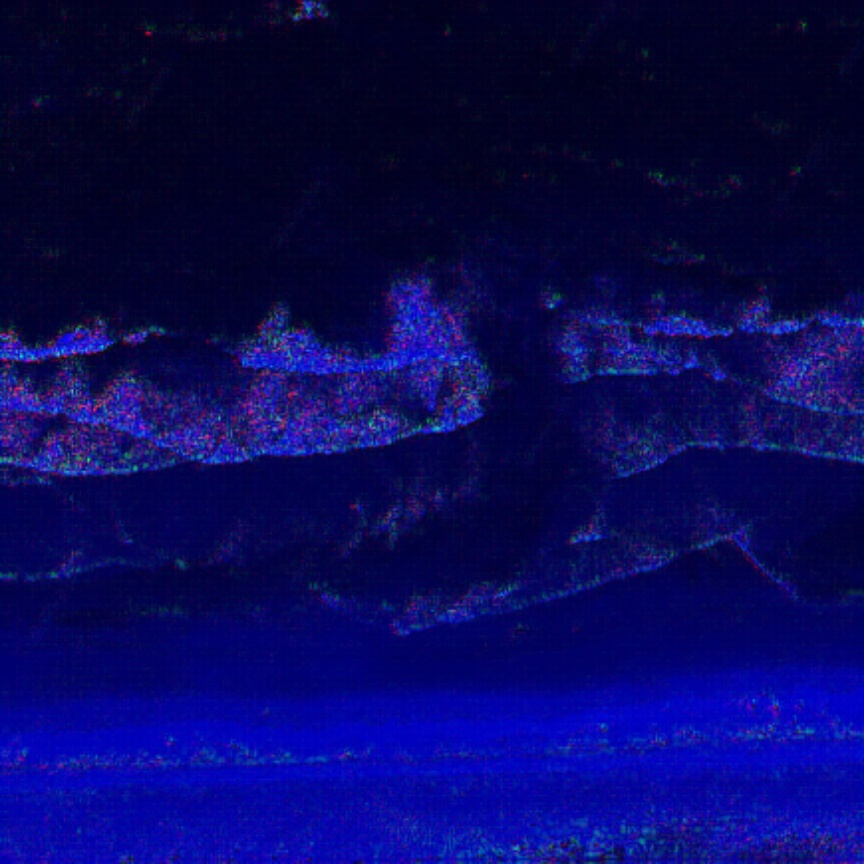rip_current: (372, 206, 635, 552)
